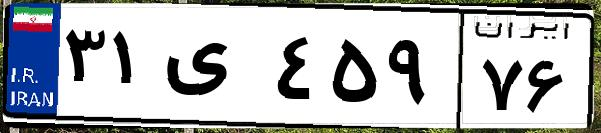1: (110, 28, 158, 98)
3: (57, 26, 110, 100)
4: (270, 28, 330, 110)
5: (330, 28, 385, 110)
6: (525, 38, 570, 115)
7: (475, 38, 525, 113)
9: (385, 28, 445, 110)
ی: (158, 20, 270, 120)
